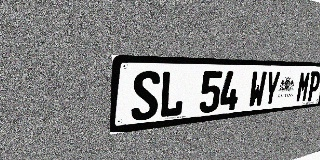4: (219, 71, 241, 111)
5: (199, 71, 223, 114)
L: (158, 71, 186, 118)
M: (295, 71, 311, 103)
P: (306, 71, 320, 101)
S: (131, 71, 160, 122)
W: (248, 71, 267, 108)
Y: (263, 71, 281, 106)
